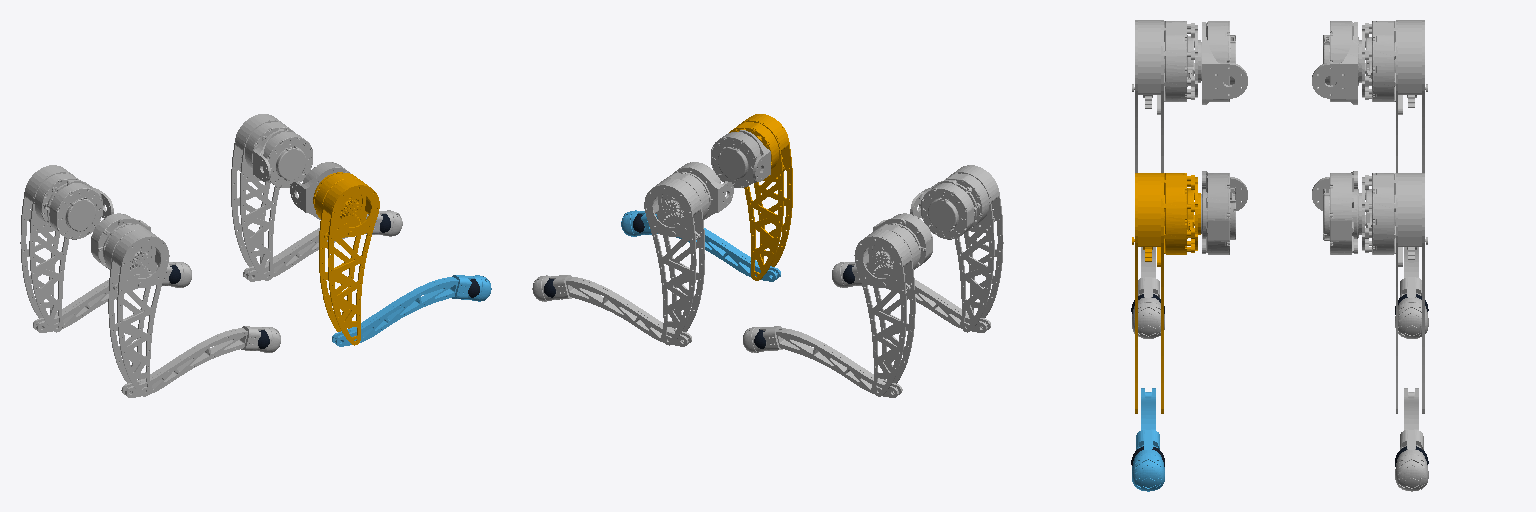
URDF robot description (black_description):
<?xml version="1.0"?>
<robot name="black_description">

  <link name="base">
    <visual>
      <origin xyz="0 0 0" rpy="0 0 0" />
      <geometry>
        <box size="0.001 0.001 0.001" />
      </geometry>
    </visual>
  </link>

  <link name="trunk">
    <visual>
      <origin xyz="0 0 0" rpy="0 0 0" />
      <geometry>
        <mesh filename="meshes/trunk.STL" />
      </geometry>
      <material name="trunk_mat">
        <color rgba="0.74902353 0.74902353 0.74902353 1.00000000"/>
      </material>
    </visual>
    <collision>
      <origin xyz="0 0 -0.02" rpy="0 0 0" />
      <geometry>
        <box size="0.3 0.14 0.065" />
      </geometry>
    </collision>
    <collision>
      <origin xyz="0 0 -0.08" rpy="0 0 0" />
      <geometry>
        <box size="0.23 0.11 0.06" />
      </geometry>
    </collision>
    <collision>
      <origin xyz="0 0 -0.125" rpy="0 0 0" />
      <geometry>
        <box size="0.21 0.12 0.04" />
      </geometry>
    </collision>
    <inertial>
      <origin xyz="-0.013095 -0.00005 -0.074252" rpy="0 0 0" />
      <mass value="5.7042" />
      <inertia ixx="0.0092853" ixy="-0.0000026" ixz="0.0000017" iyy="0.0076386" iyz="-0.0000276" izz="0.012703" />
    </inertial>
  </link>

  <link name="imu_link">
    <visual>
      <origin xyz="0 0 0" rpy="0 0 0" />
      <geometry>
        <box size="0.001 0.001 0.001" />
      </geometry>
      <material name="imu_link_mat">
        <color rgba="0.80000392 0.00000392 0.00000392 1.00000000"/>
      </material>
    </visual>
    <inertial>
      <origin xyz="0 0 0" rpy="0 0 0" />
      <mass value="0.001" />
      <inertia ixx="0.0001" ixy="0" ixz="0" iyy="0.0001" iyz="0" izz="0.0001" />
    </inertial>
  </link>

  <link name="FL_hip">
    <visual>
      <origin xyz="0 0 0" rpy="0 0 0" />
      <geometry>
        <mesh filename="meshes/FL_hip.STL" />
      </geometry>
      <material name="FL_hip_mat">
        <color rgba="0.74902353 0.74902353 0.74902353 1.00000000"/>
      </material>
    </visual>
    <collision>
      <origin xyz="0.058 0.055 0" rpy="1.5707963 0 0" />
      <geometry>
        <cylinder radius="0.052" length="0.11" />
      </geometry>
    </collision>
    <inertial>
      <origin xyz="0.05138 0.014784 0.0000566" rpy="0 0 0" />
      <mass value="0.60559" />
      <inertia ixx="0.0003742" ixy="-0.0000088" ixz="0.000001" iyy="0.0006493" iyz="-0.0000001" izz="0.0003415" />
    </inertial>
  </link>

  <link name="FL_thigh">
    <visual>
      <origin xyz="0 0 0" rpy="0 0 0" />
      <geometry>
        <mesh filename="meshes/FL_thigh.STL" />
      </geometry>
      <material name="FL_thigh_mat">
        <color rgba="0.74902353 0.74902353 0.74902353 1.00000000"/>
      </material>
    </visual>
    <collision>
      <origin xyz="0.06 0.015 -0.17" rpy="0 0 0" />
      <geometry>
        <box size="0.035 0.05 0.205" />
      </geometry>
    </collision>
    <inertial>
      <origin xyz="0.041449 0.004453 -0.021946" rpy="0 0 0" />
      <mass value="0.91168" />
      <inertia ixx="0.0018577" ixy="0" ixz="-0.0000002" iyy="0.0013983" iyz="0.0000051" izz="0.0005179" />
    </inertial>
  </link>

  <link name="FL_calf">
    <visual>
      <origin xyz="0 0 0" rpy="0 0 0" />
      <geometry>
        <mesh filename="meshes/FL_calf.STL" />
      </geometry>
      <material name="FL_calf_mat">
        <color rgba="0.74902353 0.74902353 0.74902353 1.00000000"/>
      </material>
    </visual>
    <collision>
      <origin xyz="0 -0.025 -0.09" rpy="-0.3548254 0 0" />
      <geometry>
        <cylinder radius="0.014" length="0.13" />
      </geometry>
    </collision>
    <collision>
      <origin xyz="0 -0.052 -0.178" rpy="0.0345575 0 0" />
      <geometry>
        <cylinder radius="0.014" length="0.05" />
      </geometry>
    </collision>
    <collision>
      <origin xyz="0 -0.038 -0.218" rpy="0.6981317 0 0" />
      <geometry>
        <cylinder radius="0.02" length="0.04" />
      </geometry>
    </collision>
    <inertial>
      <origin xyz="0.0000772 -0.024754 -0.14833" rpy="0 0 0" />
      <mass value="0.24861" />
      <inertia ixx="0.000929" ixy="0" ixz="0" iyy="0.0008561" iyz="-0.0002168" izz="0.0000889" />
    </inertial>
  </link>

  <link name="FL_foot">
    <visual>
      <origin xyz="0 0 0" rpy="0 0 0" />
      <geometry>
        <sphere radius="0.02" />
      </geometry>
      <material name="FL_foot_mat">
        <color rgba="0.11765098 0.14902353 0.20000392 1.00000000"/>
      </material>
    </visual>
    <collision>
      <origin xyz="0 0 0" rpy="0 0 0" />
      <geometry>
        <sphere radius="0.02" />
      </geometry>
    </collision>
    <inertial>
      <mass value="0.1" />
      <inertia ixx="0.000016" ixy="0" ixz="0" iyy="0.000016" iyz="0" izz="0.000016" />
    </inertial>
  </link>

  <link name="FR_hip">
    <visual>
      <origin xyz="0 0 0" rpy="0 0 0" />
      <geometry>
        <mesh filename="meshes/FR_hip.STL" />
      </geometry>
    </visual>
    <collision>
      <origin xyz="0.058 -0.055 0" rpy="1.5707963 0 0" />
      <geometry>
        <cylinder radius="0.052" length="0.11" />
      </geometry>
    </collision>
    <inertial>
      <origin xyz="0.05138 -0.014784 -0.0000566" rpy="0 0 0" />
      <mass value="0.60559" />
      <inertia ixx="0.0003742" ixy="0.0000088" ixz="-0.000001" iyy="0.0006493" iyz="-0.0000001" izz="0.0003415" />
    </inertial>
  </link>

  <link name="FR_thigh">
    <visual>
      <origin xyz="0 0 0" rpy="0 0 0" />
      <geometry>
        <mesh filename="meshes/FR_thigh.STL" />
      </geometry>
    </visual>
    <collision>
      <origin xyz="0.06 -0.015 -0.17" rpy="0 0 0" />
      <geometry>
        <box size="0.035 0.05 0.205" />
      </geometry>
    </collision>
    <inertial>
      <origin xyz="0.04152 -0.0043781 -0.022024" rpy="0 0 0" />
      <mass value="0.91491" />
      <inertia ixx="0.0018577" ixy="-0.0000001" ixz="-0.0000002" iyy="0.0013991" iyz="-0.0000031" izz="0.0005172" />
    </inertial>
  </link>

  <link name="FR_calf">
    <visual>
      <origin xyz="0 0 0" rpy="0 0 0" />
      <geometry>
        <mesh filename="meshes/FR_calf.STL" />
      </geometry>
    </visual>
    <collision>
      <origin xyz="0 0.025 -0.09" rpy="0.3548254 0 0" />
      <geometry>
        <cylinder radius="0.014" length="0.13" />
      </geometry>
    </collision>
    <collision>
      <origin xyz="0 0.052 -0.178" rpy="0.0345575 0 0" />
      <geometry>
        <cylinder radius="0.014" length="0.05" />
      </geometry>
    </collision>
    <collision>
      <origin xyz="0 0.038 -0.218" rpy="-0.6981317 0 0" />
      <geometry>
        <cylinder radius="0.02" length="0.04" />
      </geometry>
    </collision>
    <inertial>
      <origin xyz="-0.0000772 0.024754 -0.14833" rpy="0 0 0" />
      <mass value="0.24861" />
      <inertia ixx="0.000929" ixy="0" ixz="0" iyy="0.0008561" iyz="0.0002168" izz="0.0000889" />
    </inertial>
  </link>

  <link name="FR_foot">
    <visual>
      <origin xyz="0 0 0" rpy="0 0 0" />
      <geometry>
        <sphere radius="0.02" />
      </geometry>
      <material name="FR_foot_mat">
        <color rgba="0.11765098 0.14902353 0.20000392 1.00000000"/>
      </material>
    </visual>
    <collision>
      <origin xyz="0 0 0" rpy="0 0 0" />
      <geometry>
        <sphere radius="0.02" />
      </geometry>
    </collision>
    <inertial>
      <mass value="0.1" />
      <inertia ixx="0.000016" ixy="0" ixz="0" iyy="0.000016" iyz="0" izz="0.000016" />
    </inertial>
  </link>

  <link name="RR_hip">
    <visual>
      <origin xyz="0 0 0" rpy="0 0 0" />
      <geometry>
        <mesh filename="meshes/RR_hip.STL" />
      </geometry>
      <material name="RR_hip_mat">
        <color rgba="0.74902353 0.74902353 0.74902353 1.00000000"/>
      </material>
    </visual>
    <collision>
      <origin xyz="0.058 0.055 0" rpy="1.5707963 0 0" />
      <geometry>
        <cylinder radius="0.052" length="0.11" />
      </geometry>
    </collision>
    <inertial>
      <origin xyz="0.05138 0.014784 0.0000566" rpy="0 0 0" />
      <mass value="0.60559" />
      <inertia ixx="0.0003742" ixy="-0.0000088" ixz="0.000001" iyy="0.0006493" iyz="-0.0000001" izz="0.0003415" />
    </inertial>
  </link>

  <link name="RR_thigh">
    <visual>
      <origin xyz="0 0 0" rpy="0 0 0" />
      <geometry>
        <mesh filename="meshes/RR_thigh.STL" />
      </geometry>
      <material name="RR_thigh_mat">
        <color rgba="0.74902353 0.74902353 0.74902353 1.00000000"/>
      </material>
    </visual>
    <collision>
      <origin xyz="0.06 -0.015 -0.17" rpy="0 0 0" />
      <geometry>
        <box size="0.035 0.05 0.205" />
      </geometry>
    </collision>
    <inertial>
      <origin xyz="0.04152 -0.0043784 -0.022024" rpy="0 0 0" />
      <mass value="0.91491" />
      <inertia ixx="0.0018577" ixy="-0.0000001" ixz="-0.0000002" iyy="0.0013991" iyz="-0.0000031" izz="0.0005172" />
    </inertial>
  </link>

  <link name="RR_calf">
    <visual>
      <origin xyz="0 0 0" rpy="0 0 0" />
      <geometry>
        <mesh filename="meshes/RR_calf.STL" />
      </geometry>
      <material name="RR_calf_mat">
        <color rgba="0.74902353 0.74902353 0.74902353 1.00000000"/>
      </material>
    </visual>
    <collision>
      <origin xyz="0 0.025 -0.09" rpy="0.3548254 0 0" />
      <geometry>
        <cylinder radius="0.014" length="0.13" />
      </geometry>
    </collision>
    <collision>
      <origin xyz="0 0.052 -0.178" rpy="-0.0345575 0 0" />
      <geometry>
        <cylinder radius="0.014" length="0.05" />
      </geometry>
    </collision>
    <collision>
      <origin xyz="0 0.038 -0.218" rpy="-0.6981317 0 0" />
      <geometry>
        <cylinder radius="0.02" length="0.04" />
      </geometry>
    </collision>
    <inertial>
      <origin xyz="-0.0000772 0.024754 -0.14833" rpy="0 0 0" />
      <mass value="0.24861" />
      <inertia ixx="0.000929" ixy="0" ixz="0" iyy="0.0008561" iyz="0.0002168" izz="0.0000889" />
    </inertial>
  </link>

  <link name="RR_foot">
    <visual>
      <origin xyz="0 0 0" rpy="0 0 0" />
      <geometry>
        <sphere radius="0.02" />
      </geometry>
      <material name="RR_foot_mat">
        <color rgba="0.11765098 0.14902353 0.20000392 1.00000000"/>
      </material>
    </visual>
    <collision>
      <origin xyz="0 0 0" rpy="0 0 0" />
      <geometry>
        <sphere radius="0.02" />
      </geometry>
    </collision>
    <inertial>
      <mass value="0.1" />
      <inertia ixx="0.000016" ixy="0" ixz="0" iyy="0.000016" iyz="0" izz="0.000016" />
    </inertial>
  </link>

  <link name="RL_hip">
    <visual>
      <origin xyz="0 0 0" rpy="0 0 0" />
      <geometry>
        <mesh filename="meshes/RL_hip.STL" />
      </geometry>
      <material name="RL_hip_mat">
        <color rgba="0.74902353 0.74902353 0.74902353 1.00000000"/>
      </material>
    </visual>
    <collision>
      <origin xyz="0.058 -0.055 0" rpy="1.5707963 0 0" />
      <geometry>
        <cylinder radius="0.052" length="0.11" />
      </geometry>
    </collision>
    <inertial>
      <origin xyz="0.05138 -0.014784 -0.0000566" rpy="0 0 0" />
      <mass value="0.60559" />
      <inertia ixx="0.0003742" ixy="0.0000088" ixz="-0.000001" iyy="0.0006493" iyz="-0.0000001" izz="0.0003415" />
    </inertial>
  </link>

  <link name="RL_thigh">
    <visual>
      <origin xyz="0 0 0" rpy="0 0 0" />
      <geometry>
        <mesh filename="meshes/RL_thigh.STL" />
      </geometry>
      <material name="RL_thigh_mat">
        <color rgba="0.74902353 0.74902353 0.74902353 1.00000000"/>
      </material>
    </visual>
    <collision>
      <origin xyz="0.06 0.015 -0.17" rpy="0 0 0" />
      <geometry>
        <box size="0.035 0.05 0.205" />
      </geometry>
    </collision>
    <inertial>
      <origin xyz="0.041449 0.0044527 -0.021947" rpy="0 0 0" />
      <mass value="0.91168" />
      <inertia ixx="0.0018577" ixy="0" ixz="-0.0000002" iyy="0.0013983" iyz="0.0000051" izz="0.0005179" />
    </inertial>
  </link>

  <link name="RL_calf">
    <visual>
      <origin xyz="0 0 0" rpy="0 0 0" />
      <geometry>
        <mesh filename="meshes/RL_calf.STL" />
      </geometry>
      <material name="RL_calf_mat">
        <color rgba="0.74902353 0.74902353 0.74902353 1.00000000"/>
      </material>
    </visual>
    <collision>
      <origin xyz="0 -0.025 -0.09" rpy="-0.3548254 0 0" />
      <geometry>
        <cylinder radius="0.014" length="0.13" />
      </geometry>
    </collision>
    <collision>
      <origin xyz="0 -0.052 -0.178" rpy="0.0345575 0 0" />
      <geometry>
        <cylinder radius="0.014" length="0.05" />
      </geometry>
    </collision>
    <collision>
      <origin xyz="0 -0.038 -0.218" rpy="0.6981317 0 0" />
      <geometry>
        <cylinder radius="0.02" length="0.04" />
      </geometry>
    </collision>
    <inertial>
      <origin xyz="0.0000772 -0.024754 -0.14833" rpy="0 0 0" />
      <mass value="0.24861" />
      <inertia ixx="0.000929" ixy="0" ixz="0" iyy="0.0008561" iyz="-0.0002168" izz="0.0000889" />
    </inertial>
  </link>

  <link name="RL_foot">
    <visual>
      <origin xyz="0 0 0" rpy="0 0 0" />
      <geometry>
        <sphere radius="0.02" />
      </geometry>
      <material name="RL_foot_mat">
        <color rgba="0.11765098 0.14902353 0.20000392 1.00000000"/>
      </material>
    </visual>
    <collision>
      <origin xyz="0 0 0" rpy="0 0 0" />
      <geometry>
        <sphere radius="0.02" />
      </geometry>
    </collision>
    <inertial>
      <mass value="0.1" />
      <inertia ixx="0.000016" ixy="0" ixz="0" iyy="0.000016" iyz="0" izz="0.000016" />
    </inertial>
  </link>

  <joint name="floating_base" type="fixed">
    <parent link="base" />
    <child link="trunk" />
    <origin xyz="0 0 0" rpy="0 0 0" />
  </joint>

  <joint name="imu_joint" type="fixed">
    <parent link="trunk" />
    <child link="imu_link" />
    <origin xyz="0 0 0" rpy="0 0 0" />
  </joint>

  <joint name="FL_hip_joint" type="revolute">
    <parent link="trunk" />
    <child link="FL_hip" />
    <origin xyz="0.1566 0.060001 -0.06425" rpy="0 0 0" />
    <axis xyz="1 0 0" />
    <limit lower="-0.5" upper="0.5" effort="20" velocity="25" />
  </joint>

  <joint name="FL_thigh_joint" type="revolute">
    <parent link="FL_hip" />
    <child link="FL_thigh" />
    <origin xyz="0.056 0.0336 0" rpy="0 0 1.5708" />
    <axis xyz="1 0 0" />
    <limit lower="-1.2" upper="1.6" effort="20" velocity="25" />
  </joint>

  <joint name="FL_calf_joint" type="revolute">
    <parent link="FL_thigh" />
    <child link="FL_calf" />
    <origin xyz="0.0618 0 -0.25" rpy="0 0 0" />
    <axis xyz="1 0 0" />
    <limit lower="-2.5" upper="-0.85" effort="20" velocity="25" />
  </joint>

  <joint name="FL_foot_fixed" type="fixed" dont_collapse="true">
    <parent link="FL_calf" />
    <child link="FL_foot" />
    <origin xyz="0 -0.013803 -0.24433" rpy="0 0 0" />
  </joint>

  <joint name="FR_hip_joint" type="revolute">
    <parent link="trunk" />
    <child link="FR_hip" />
    <origin xyz="0.1566 -0.059999 -0.06425" rpy="0 0 0" />
    <axis xyz="1 0 0" />
    <limit lower="-0.5" upper="0.5" effort="20" velocity="25" />
  </joint>

  <joint name="FR_thigh_joint" type="revolute">
    <parent link="FR_hip" />
    <child link="FR_thigh" />
    <origin xyz="0.056 -0.0336 0" rpy="0 0 -1.5708" />
    <axis xyz="1 0 0" />
    <limit lower="-1.6" upper="1.2" effort="20" velocity="25" />
  </joint>

  <joint name="FR_calf_joint" type="revolute">
    <parent link="FR_thigh" />
    <child link="FR_calf" />
    <origin xyz="0.0618 0 -0.25" rpy="0 0 0" />
    <axis xyz="1 0 0" />
    <limit lower="0.85" upper="2.5" effort="20" velocity="25" />
  </joint>

  <joint name="FR_foot_fixed" type="fixed" dont_collapse="true">
    <parent link="FR_calf" />
    <child link="FR_foot" />
    <origin xyz="0 0.013803 -0.24433" rpy="0 0 0" />
  </joint>

  <joint name="RR_hip_joint" type="revolute">
    <parent link="trunk" />
    <child link="RR_hip" />
    <origin xyz="-0.1566 -0.059999 -0.06425" rpy="0 0 -3.1416" />
    <axis xyz="1 0 0" />
    <limit lower="-0.5" upper="0.5" effort="20" velocity="25" />
  </joint>

  <joint name="RR_thigh_joint" type="revolute">
    <parent link="RR_hip" />
    <child link="RR_thigh" />
    <origin xyz="0.056 0.0336 0" rpy="0 0 1.5708" />
    <axis xyz="1 0 0" />
    <limit lower="-1.6" upper="1.2" effort="20" velocity="25" />
  </joint>

  <joint name="RR_calf_joint" type="revolute">
    <parent link="RR_thigh" />
    <child link="RR_calf" />
    <origin xyz="0.0618 0 -0.25" rpy="0 0 0" />
    <axis xyz="1 0 0" />
    <limit lower="0.85" upper="2.5" effort="20" velocity="25" />
  </joint>

  <joint name="RR_foot_fixed" type="fixed" dont_collapse="true">
    <parent link="RR_calf" />
    <child link="RR_foot" />
    <origin xyz="0 0.013803 -0.24433" rpy="0 0 0" />
  </joint>

  <joint name="RL_hip_joint" type="revolute">
    <parent link="trunk" />
    <child link="RL_hip" />
    <origin xyz="-0.1566 0.060001 -0.06425" rpy="0 0 -3.1416" />
    <axis xyz="1 0 0" />
    <limit lower="-0.5" upper="0.5" effort="20" velocity="25" />
  </joint>

  <joint name="RL_thigh_joint" type="revolute">
    <parent link="RL_hip" />
    <child link="RL_thigh" />
    <origin xyz="0.056 -0.0336 0" rpy="0 0 -1.5708" />
    <axis xyz="1 0 0" />
    <limit lower="-1.2" upper="1.6" effort="20" velocity="25" />
  </joint>

  <joint name="RL_calf_joint" type="revolute">
    <parent link="RL_thigh" />
    <child link="RL_calf" />
    <origin xyz="0.0618 0 -0.25" rpy="0 0 0" />
    <axis xyz="1 0 0" />
    <limit lower="-2.5" upper="-0.85" effort="20" velocity="25" />
  </joint>

  <joint name="RL_foot_fixed" type="fixed" dont_collapse="true">
    <parent link="RL_calf" />
    <child link="RL_foot" />
    <origin xyz="0 -0.013803 -0.24433" rpy="0 0 0" />
  </joint>

</robot>

--- Facts derived from the render (not from the file) ---
Views: 3 orthographic renders of the robot side by side, from view 1: azimuth 30°, elevation 25°; view 2: azimuth 150°, elevation 25°; view 3: azimuth 270°, elevation 25°.
Model black_description with 19 links and 18 joints (12 revolute, 6 fixed), rooted at base, posed joints at zero except 4 at the middle of their limits (FL_calf_joint = -1.68, FR_calf_joint = 1.68, RR_calf_joint = 1.68, RL_calf_joint = -1.68).
Visible links, largest first — view 1: FR_thigh, RR_thigh, RL_thigh, FL_thigh, RR_calf, FR_calf, FL_hip, RL_hip, FL_calf, RL_calf, FR_hip, RR_hip; view 2: FL_thigh, RL_thigh, RR_thigh, FR_thigh, RL_calf, FL_calf, FR_hip, RR_hip, FR_calf, RR_calf, FL_hip, RL_hip; view 3: FR_thigh, FL_thigh, RR_thigh, RL_thigh, FL_hip, RL_hip, FR_hip, RR_hip, FL_calf, FR_calf, RL_calf, RR_calf.
Link boxes in pixels (x1=…): FR_thigh: x1=313, y1=172, x2=379, y2=345; RR_thigh: x1=103, y1=223, x2=169, y2=396; RL_thigh: x1=20, y1=165, x2=80, y2=332; FL_thigh: x1=231, y1=114, x2=294, y2=280; RR_calf: x1=121, y1=326, x2=280, y2=397; FR_calf: x1=332, y1=275, x2=491, y2=346; FL_hip: x1=253, y1=130, x2=312, y2=187; RL_hip: x1=49, y1=180, x2=113, y2=239; FL_calf: x1=243, y1=210, x2=402, y2=281; RL_calf: x1=33, y1=262, x2=191, y2=332; FR_hip: x1=290, y1=162, x2=350, y2=219; RR_hip: x1=91, y1=213, x2=150, y2=268; FL_thigh: x1=644, y1=172, x2=710, y2=345; RL_thigh: x1=854, y1=223, x2=920, y2=396; RR_thigh: x1=945, y1=165, x2=1003, y2=332; FR_thigh: x1=729, y1=114, x2=792, y2=280; RL_calf: x1=743, y1=326, x2=902, y2=397; FL_calf: x1=532, y1=275, x2=691, y2=346; FR_hip: x1=711, y1=130, x2=770, y2=187; RR_hip: x1=910, y1=180, x2=974, y2=239; FR_calf: x1=621, y1=210, x2=780, y2=281; RR_calf: x1=832, y1=262, x2=990, y2=332; FL_hip: x1=673, y1=162, x2=733, y2=219; RL_hip: x1=873, y1=213, x2=932, y2=268; FR_thigh: x1=1132, y1=173, x2=1200, y2=413; FL_thigh: x1=1359, y1=173, x2=1427, y2=413; RR_thigh: x1=1132, y1=20, x2=1200, y2=172; RL_thigh: x1=1359, y1=20, x2=1427, y2=172; FL_hip: x1=1312, y1=171, x2=1358, y2=254; RL_hip: x1=1312, y1=21, x2=1358, y2=104; FR_hip: x1=1201, y1=171, x2=1247, y2=254; RR_hip: x1=1201, y1=21, x2=1247, y2=104; FL_calf: x1=1395, y1=388, x2=1428, y2=491; FR_calf: x1=1132, y1=388, x2=1164, y2=491; RL_calf: x1=1395, y1=247, x2=1428, y2=338; RR_calf: x1=1132, y1=247, x2=1164, y2=338.
Bounding box of the posed robot: 0.7587 × 0.3509 × 0.3258 m (x, y, z).
Meshes: 13 distinct files referenced, 12 mesh visuals loaded (12 binary STL); not drawn: 1 (reference not matched to a file when rendering).
